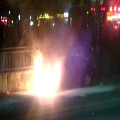fire: (25, 48, 60, 99)
